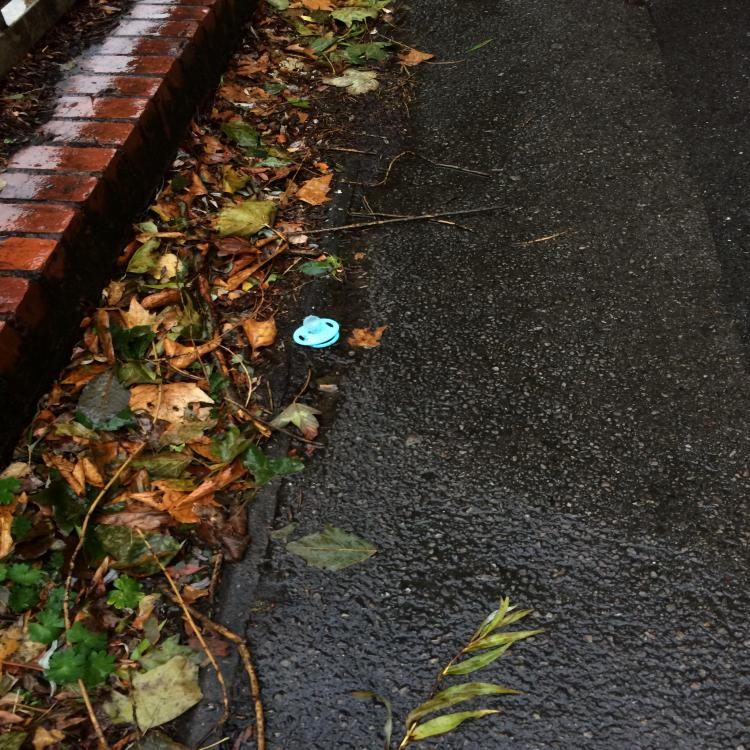Other plastic wrapper: (293, 316, 339, 347)
